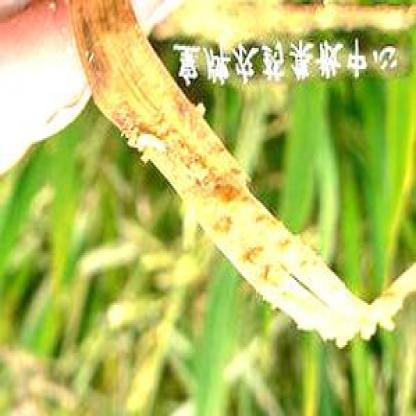whorl-maggot: (131, 126, 174, 162)
